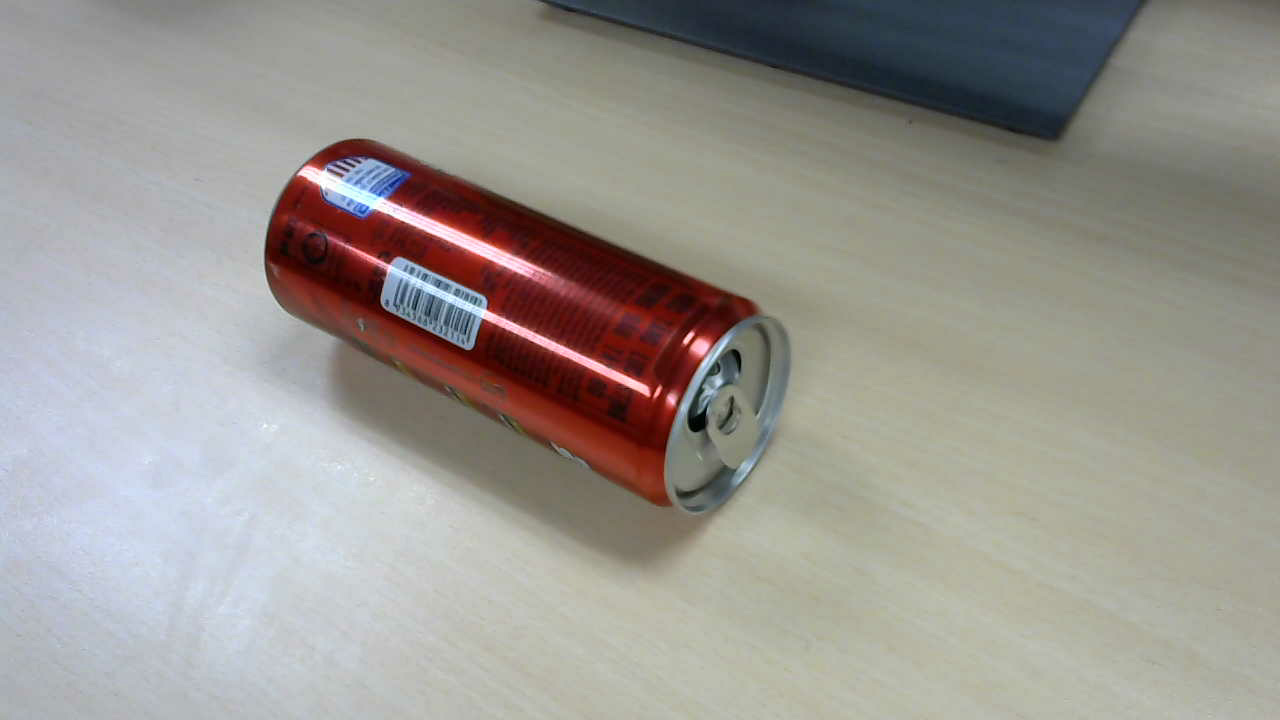Sting: (235, 136, 801, 538)
